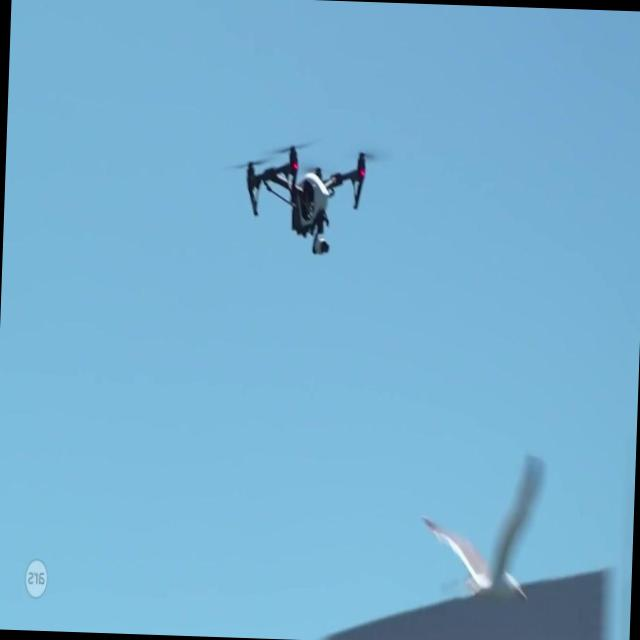drone: (241, 140, 367, 257)
